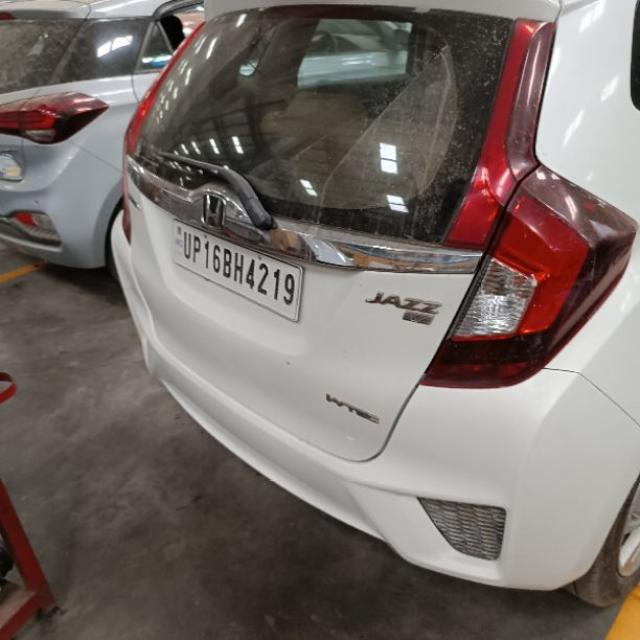license_plate: (168, 217, 304, 322)
